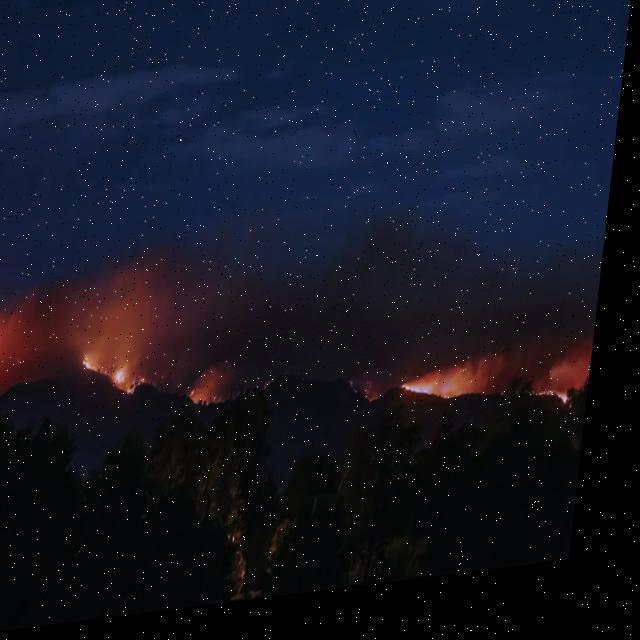Fire: (88, 351, 166, 404), (410, 379, 480, 416), (542, 395, 582, 428), (197, 388, 228, 416), (375, 404, 389, 414), (272, 387, 280, 398)
